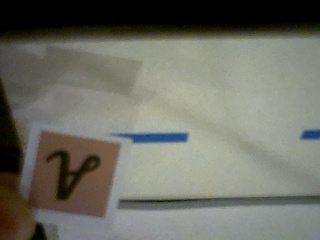A: (24, 129, 122, 220)
